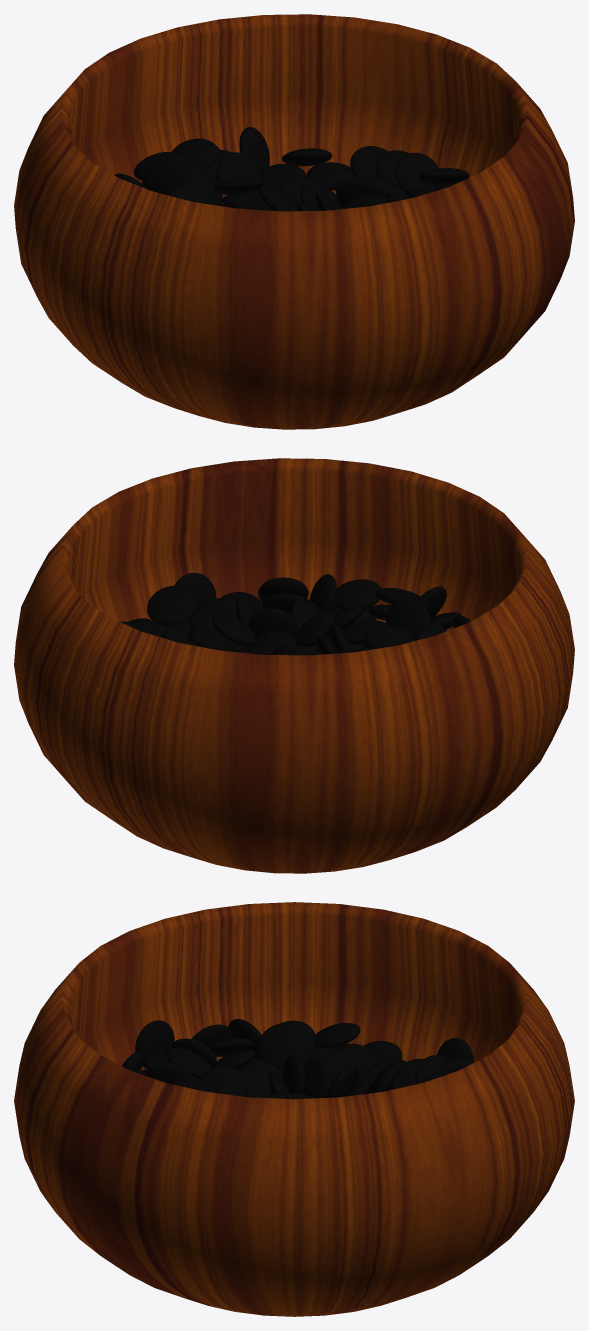
File: gobowl.glb
3 views of the same model, one above another, from view 1: azimuth 30°, elevation 25°; view 2: azimuth 150°, elevation 25°; view 3: azimuth 270°, elevation 25° (orthographic).
Parts seen in each view (by area): view 1: bowl, go-stone.861, go-stone.981, go-stone.887, go-stone.998, go-stone.895, go-stone.833, go-stone.820, go-stone.890, go-stone.945, go-stone.830, go-stone.989 (+7 smaller); view 2: bowl, go-stone.810, go-stone.943, go-stone.885, go-stone.954, go-stone.956, go-stone.822, go-stone.809, go-stone.838, go-stone.952, go-stone.949, go-stone.964 (+5 smaller); view 3: bowl, go-stone.807, go-stone.902, go-stone.899, go-stone.865, go-stone.826, go-stone.834, go-stone.823, go-stone.842, go-stone.894, go-stone.825, go-stone.818 (+9 smaller).
Part boxes in pixels (box(x1,y1,x2,y2)): bowl: box(14, 14, 574, 429); go-stone.861: box(144, 154, 192, 195); go-stone.981: box(394, 152, 438, 191); go-stone.887: box(172, 138, 218, 169); go-stone.998: box(216, 152, 260, 195); go-stone.895: box(239, 127, 269, 171); go-stone.833: box(306, 162, 354, 190); go-stone.820: box(336, 178, 386, 208); go-stone.890: box(350, 146, 387, 178); go-stone.945: box(259, 183, 297, 211); go-stone.830: box(282, 148, 332, 166); go-stone.989: box(213, 176, 263, 194); bowl: box(14, 458, 574, 873); go-stone.810: box(147, 585, 196, 626); go-stone.943: box(386, 597, 429, 641); go-stone.885: box(334, 579, 381, 609); go-stone.954: box(248, 608, 298, 639); go-stone.956: box(212, 614, 256, 646); go-stone.822: box(363, 626, 413, 649); go-stone.809: box(295, 611, 334, 647); go-stone.838: box(174, 572, 216, 611); go-stone.952: box(258, 577, 308, 601); go-stone.949: box(309, 574, 336, 611); go-stone.964: box(188, 605, 237, 633); bowl: box(14, 902, 574, 1316); go-stone.807: box(257, 1023, 307, 1069); go-stone.902: box(135, 1020, 174, 1068); go-stone.899: box(303, 1057, 332, 1098); go-stone.865: box(201, 1066, 248, 1096); go-stone.826: box(314, 1023, 360, 1048); go-stone.834: box(166, 1047, 211, 1077); go-stone.823: box(282, 1054, 305, 1093); go-stone.842: box(327, 1064, 358, 1097); go-stone.894: box(325, 1049, 366, 1082); go-stone.825: box(145, 1062, 191, 1083); go-stone.818: box(240, 1068, 271, 1097).
Size of the model in its own units: 2 by 1.05 by 2.
Materials: 2 (1 with a texture image).
